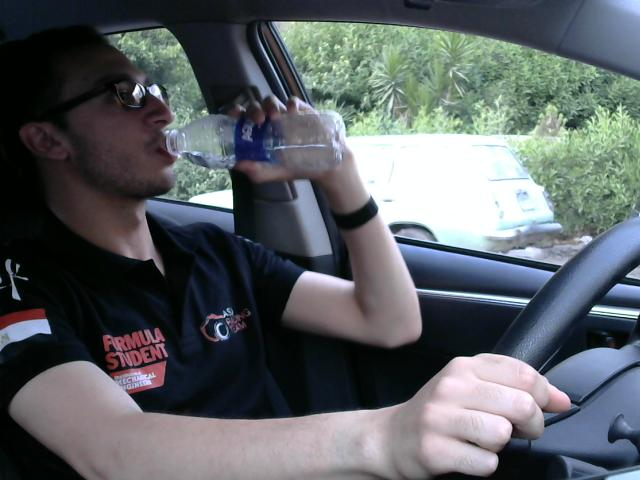Drinking: (159, 103, 352, 178)
